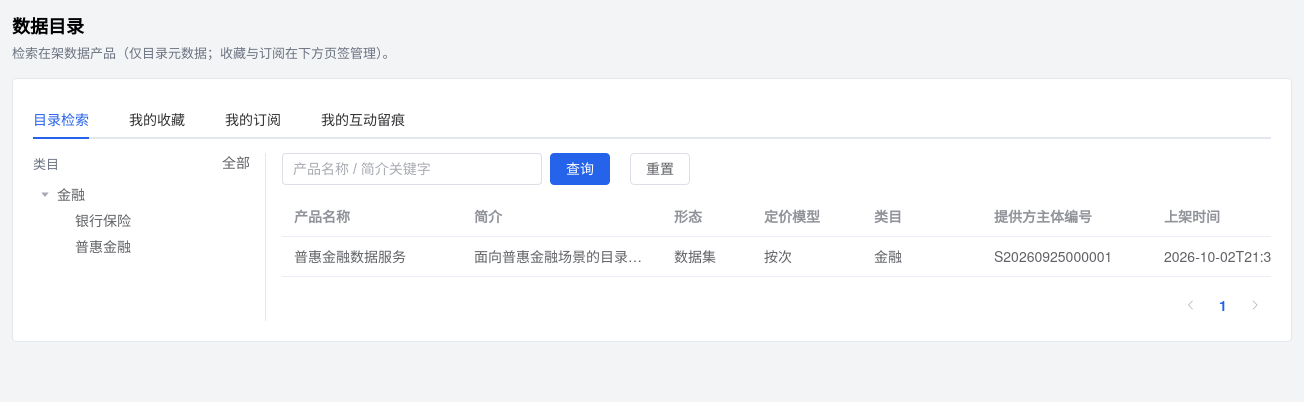
Test: 我的收藏 / 我的订阅（T8） › 收藏页签：条目渲染产品当前状态三态标记（历史不删除）+ 取消收藏入口
Click the tab with id "tab-favorites": (157, 119) [129,109,185,129]
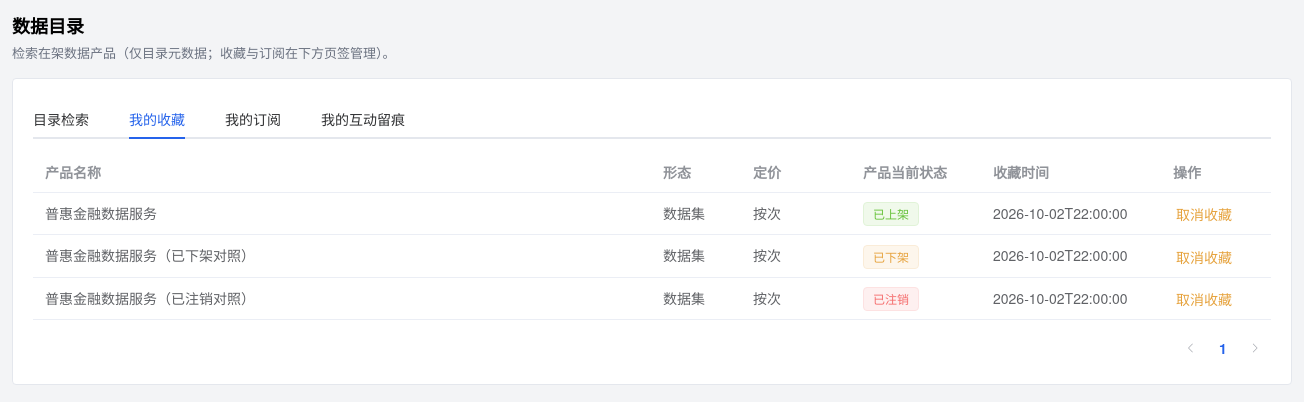
Now the text "已上架" is shown, box [873,208,909,220]
Now the text "已下架" is shown, box [45,246,255,266]
Now the text "已注销" is shown, box [45,288,255,308]
